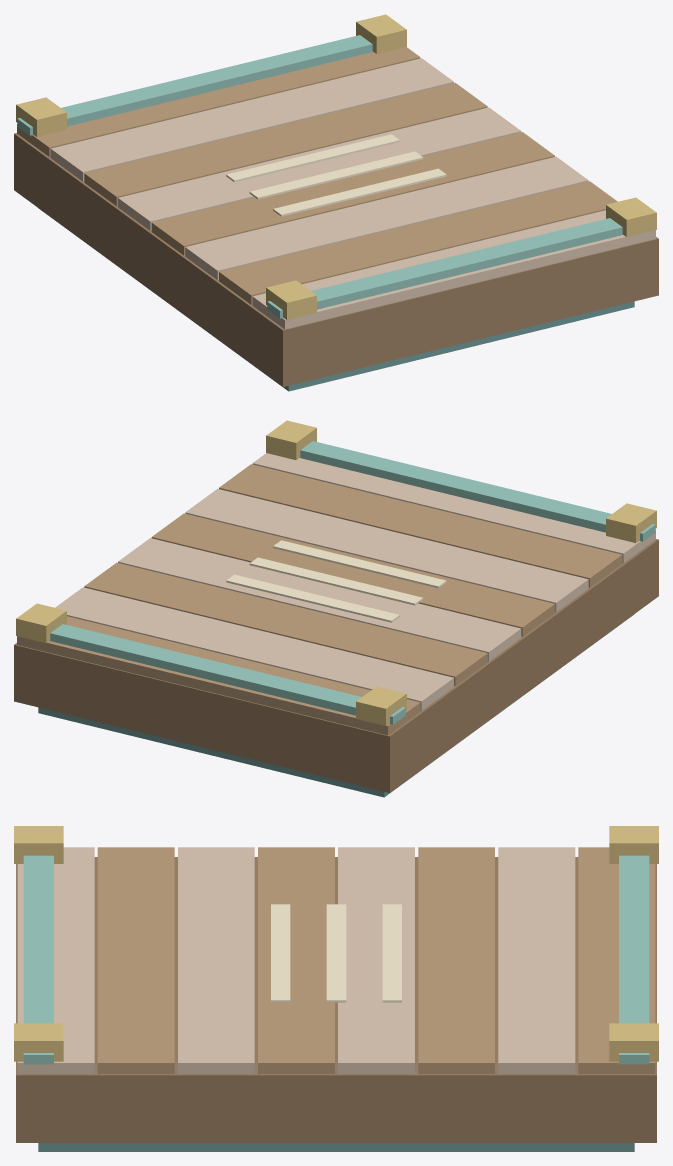
Rendered from DeliveryBarge03.glb.
3 renders of one model, top to bottom at view 1: azimuth 30°, elevation 25°; view 2: azimuth 150°, elevation 25°; view 3: azimuth 270°, elevation 25°, orthographic. The views are drawn at different scales.
Visible parts, largest first — view 1: DeliveryBarge03; view 2: DeliveryBarge03; view 3: DeliveryBarge03.
Part boxes in pixels (left/top/right/bottom): DeliveryBarge03: left=14, top=14, right=658, bottom=391; DeliveryBarge03: left=14, top=420, right=658, bottom=797; DeliveryBarge03: left=14, top=826, right=658, bottom=1151.
Bounding box in the file's own units: 2.5 × 0.63 × 3.12.
